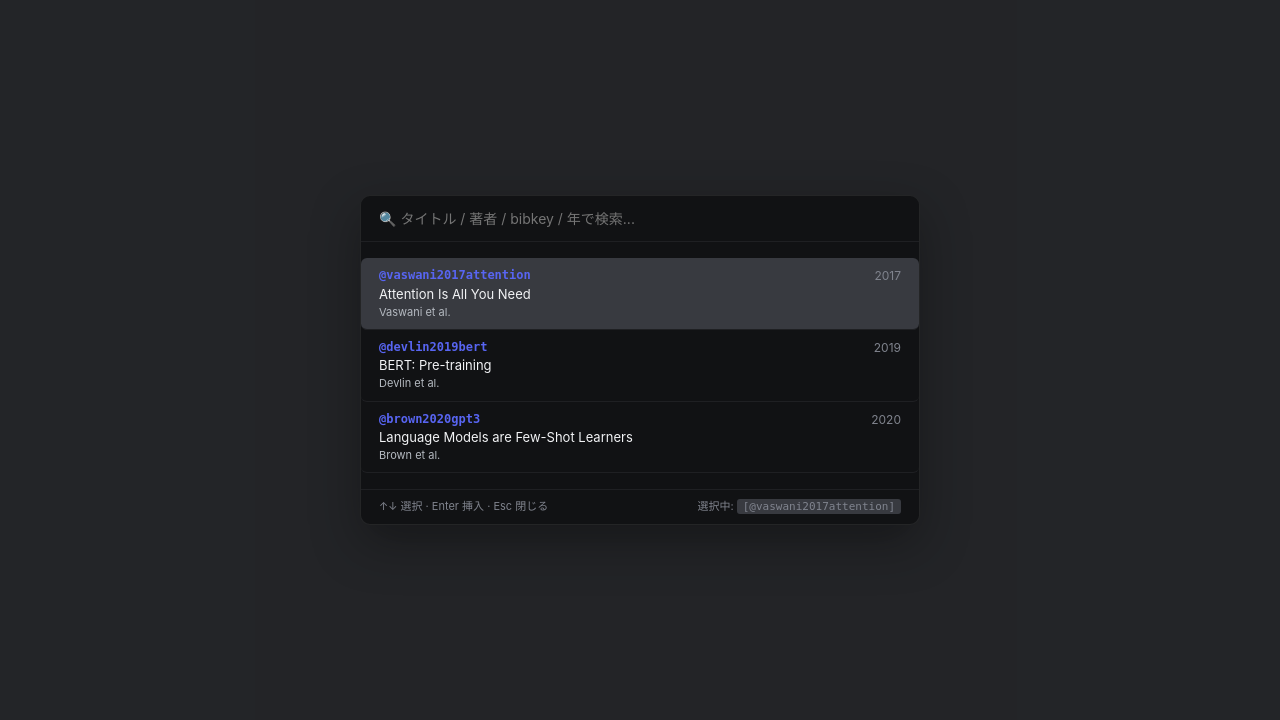
Scenario: CitationPicker › filters items by query
Expected: the text "Attention Is All You Need" is shown, [379, 286, 531, 302]
Type "bert" into the field with placeholder "🔍 タイトル / 著者 / bibkey / 年で検索..." at (640, 219), box [361, 196, 919, 242]
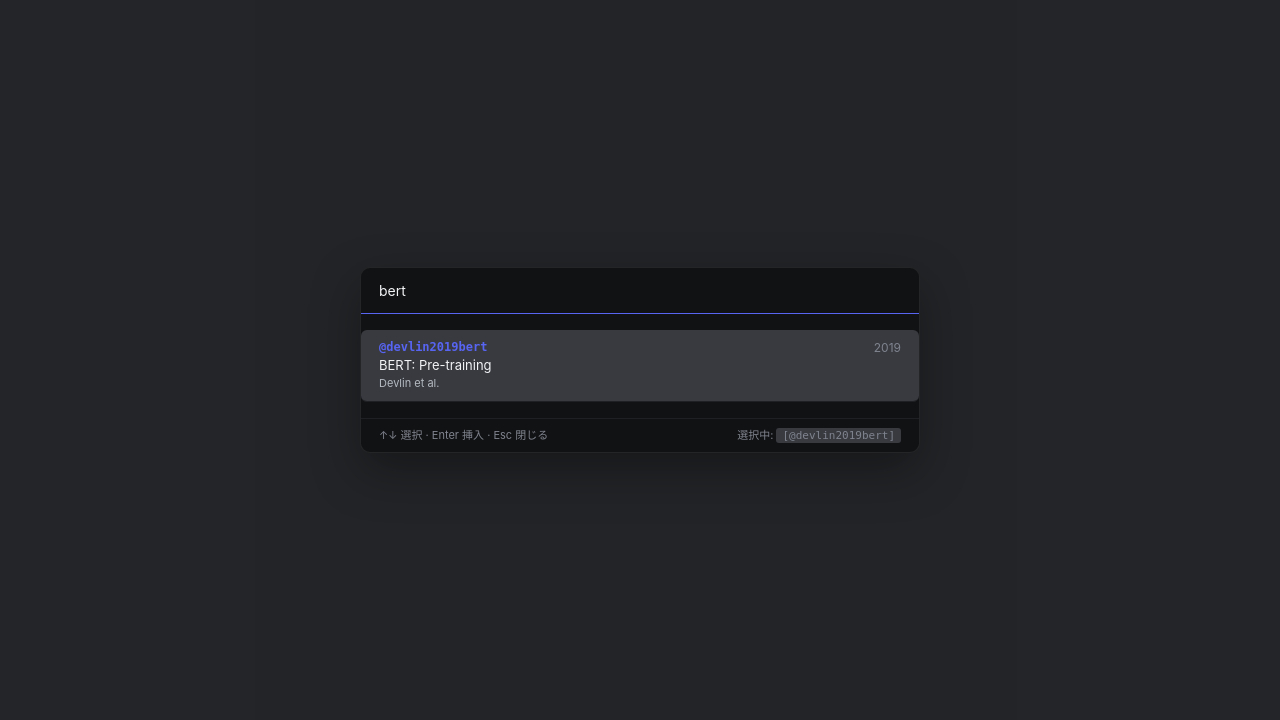
Expected: the text "BERT: Pre-training" is shown, [379, 358, 492, 374]
Expected: the option "Attention Is All You Need" is gone
